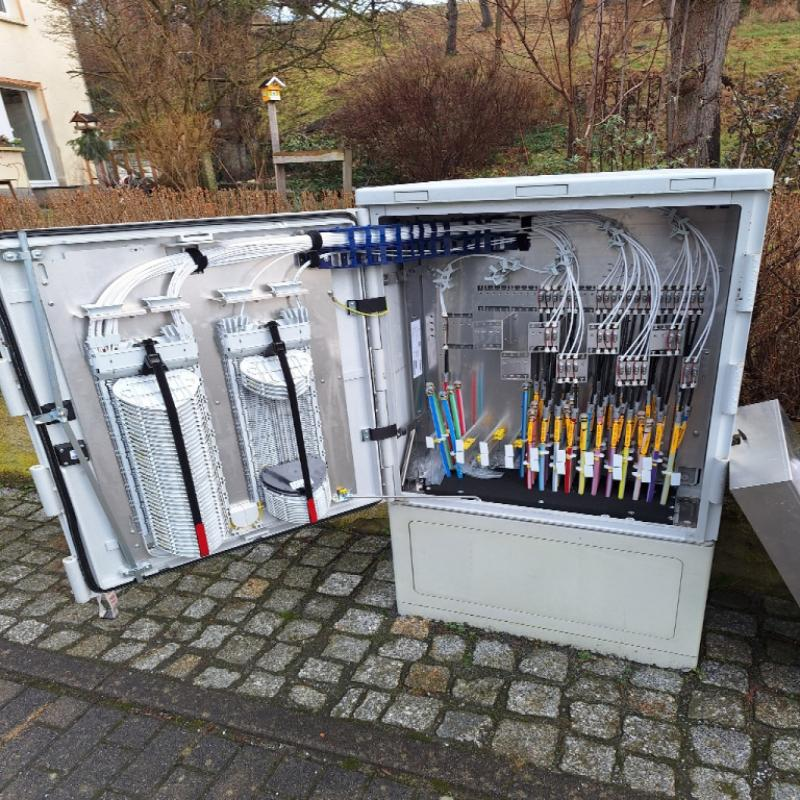NT-Gehause: (0, 170, 770, 669)
Spleiskassetten: (69, 289, 254, 565), (205, 279, 337, 524)
